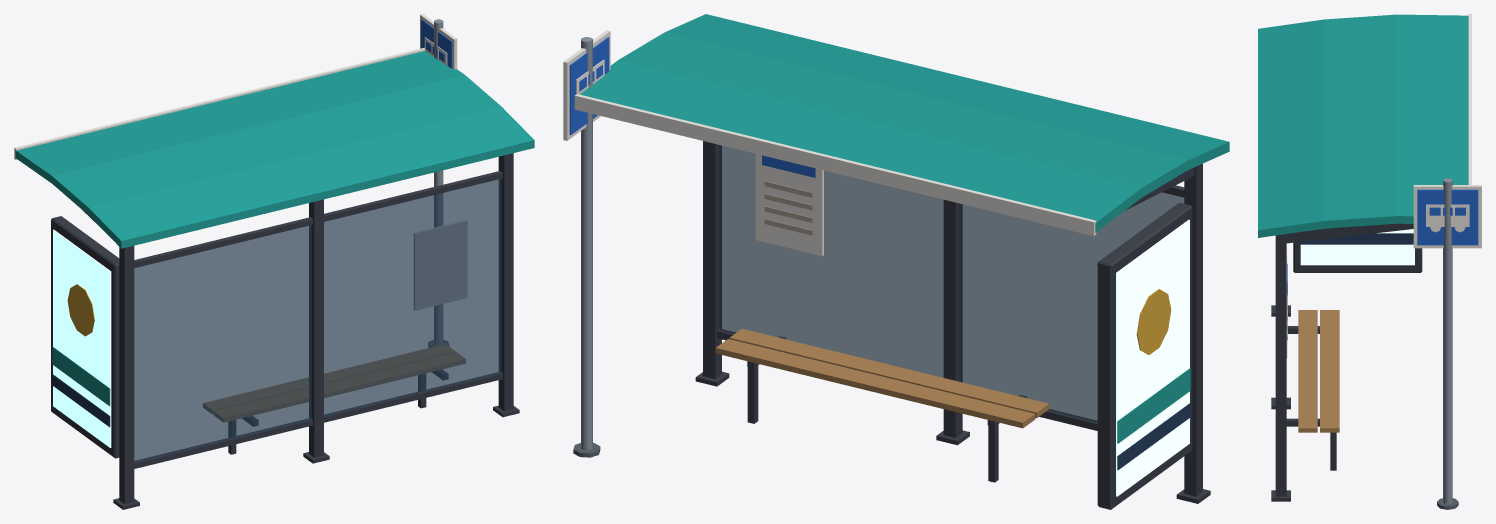
The model's file is bus_stop.glb.
3 views of the same model, side by side, from view 1: azimuth 30°, elevation 25°; view 2: azimuth 150°, elevation 25°; view 3: azimuth 270°, elevation 25° (orthographic). The views are drawn at different scales.
Visible parts, largest first — view 1: bus_stop, Glass; view 2: bus_stop, Glass; view 3: bus_stop.
Boxes of the visible parts, bbox=[...] form: bus_stop: bbox=[14, 14, 534, 509]; Glass: bbox=[134, 178, 501, 462]; bus_stop: bbox=[563, 14, 1229, 509]; Glass: bbox=[718, 145, 1184, 422]; bus_stop: bbox=[1258, 14, 1481, 509].
Size of the model in its own units: 4 by 2.95 by 1.84.
